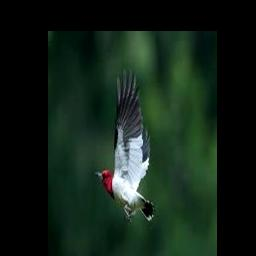Woodpecker: (95, 68, 157, 221)
